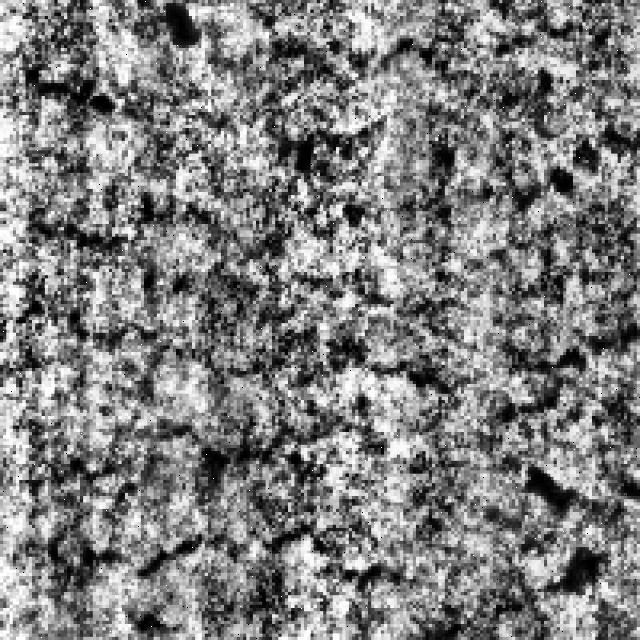Pitted_Surface: (26, 198, 428, 582), (483, 128, 637, 637), (278, 13, 634, 173)
